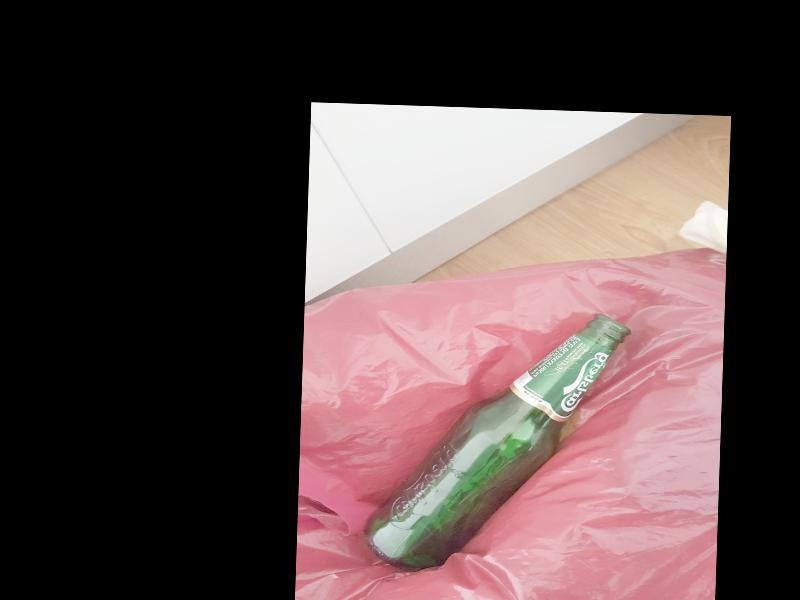Beer: (366, 306, 631, 577)
